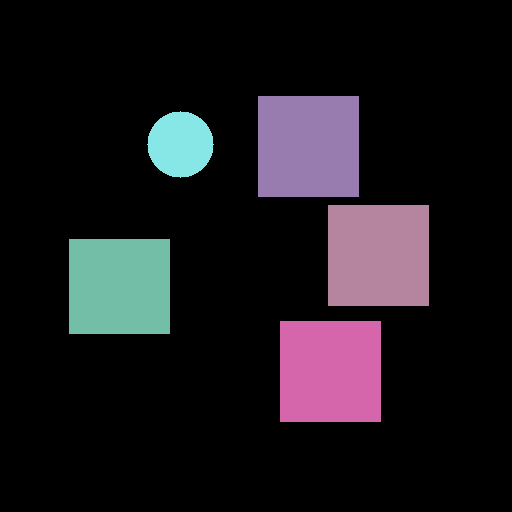circle: (147, 111, 213, 177)
square: (280, 321, 380, 421), (328, 205, 428, 305), (258, 96, 358, 196), (69, 239, 169, 333)
